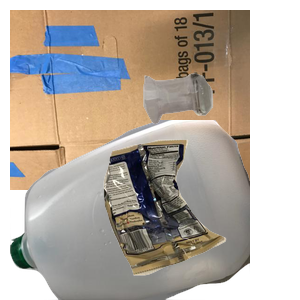cardboard: (10, 10, 250, 190)
glass: (141, 71, 300, 187)
plastic: (10, 120, 250, 300)
trash: (101, 137, 300, 300)
